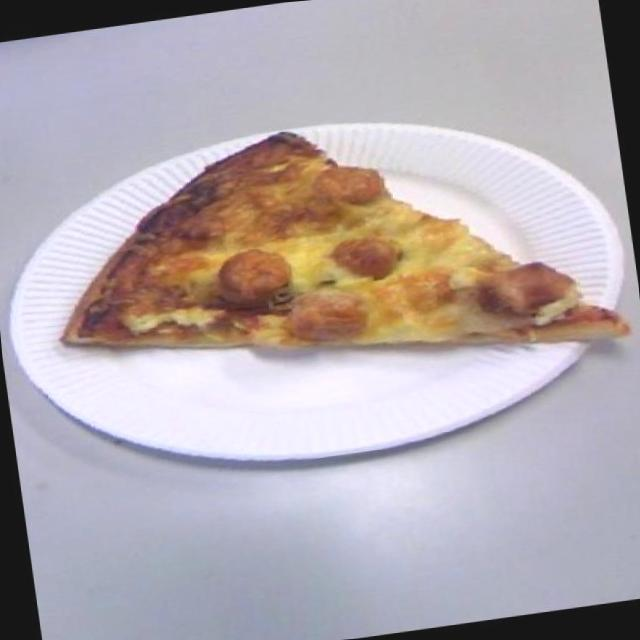Pizza: (35, 96, 618, 413)
